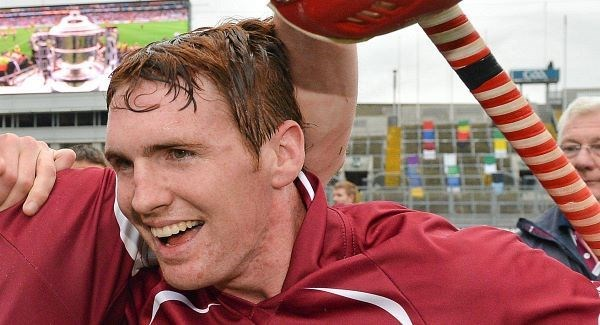player: (87, 38, 533, 310)
